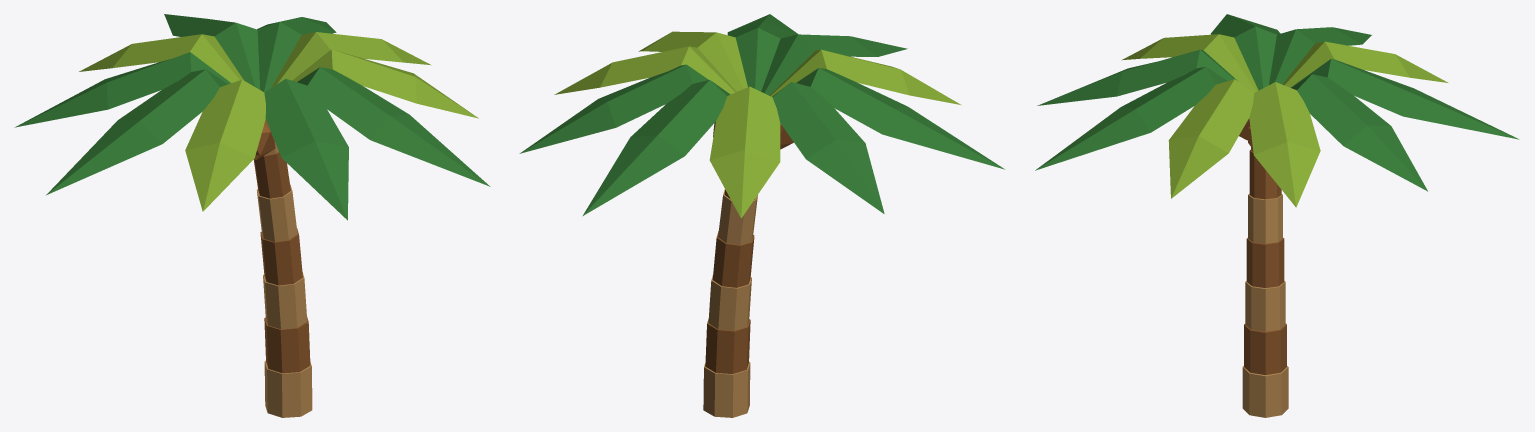
The model's file is palm_fan_short.glb.
3 views of the same model, side by side, from view 1: azimuth 30°, elevation 25°; view 2: azimuth 150°, elevation 25°; view 3: azimuth 270°, elevation 25° (orthographic). The views are drawn at different scales.
Visible parts, largest first — view 1: palm_fan_short_pc; view 2: palm_fan_short_pc; view 3: palm_fan_short_pc.
Part boxes in pixels (<box>): palm_fan_short_pc: <box>14,14,490,417</box>; palm_fan_short_pc: <box>519,14,1005,417</box>; palm_fan_short_pc: <box>1035,14,1519,417</box>.
Bounding box in the file's own units: 3.8 × 3.12 × 4.02.
